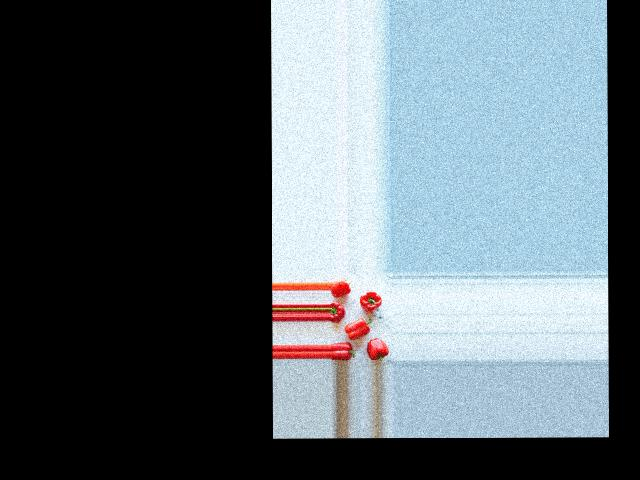bell_pepper: (330, 301, 346, 323)
